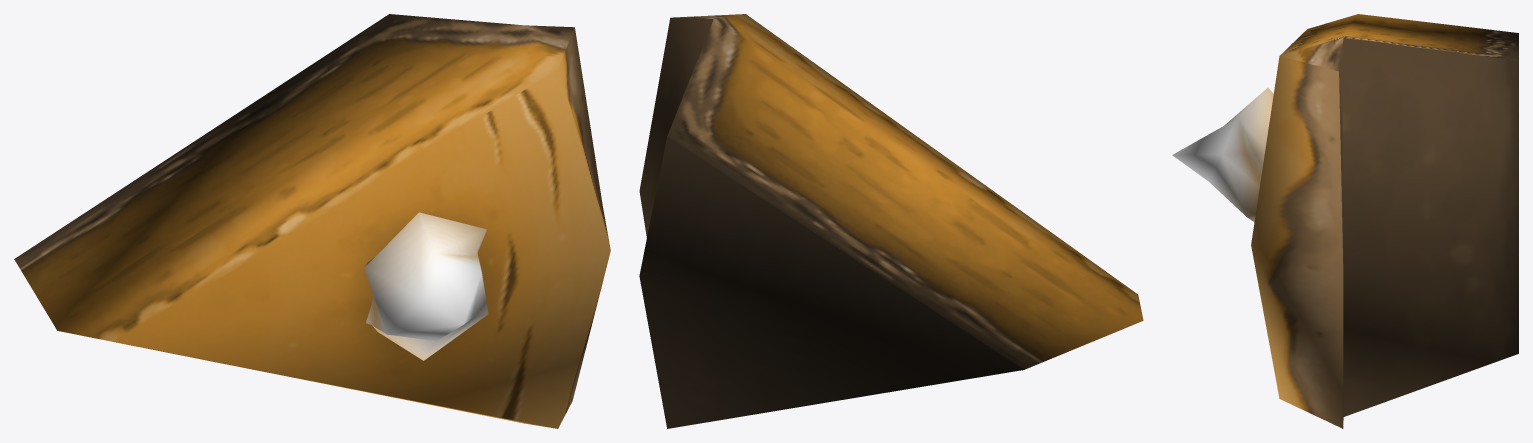
The model's file is _punkin_piece.glb.
3 renders of one model, left to right at view 1: azimuth 30°, elevation 25°; view 2: azimuth 150°, elevation 25°; view 3: azimuth 270°, elevation 25°, orthographic. The views are drawn at different scales.
Parts seen in each view (by area): view 1: parts.model_punkin_piece-MeshNodes["mesh_punkin"]; view 2: parts.model_punkin_piece-MeshNodes["mesh_punkin"]; view 3: parts.model_punkin_piece-MeshNodes["mesh_punkin"].
Boxes of the visible parts, box(x1,y1,x2,y2) form: parts.model_punkin_piece-MeshNodes["mesh_punkin"]: box(14, 14, 610, 428); parts.model_punkin_piece-MeshNodes["mesh_punkin"]: box(639, 14, 1143, 428); parts.model_punkin_piece-MeshNodes["mesh_punkin"]: box(1172, 14, 1518, 428).
Size of the model in its own units: 0.4355 by 0.3083 by 0.2555.
Materials: 1 (1 with a texture image).
